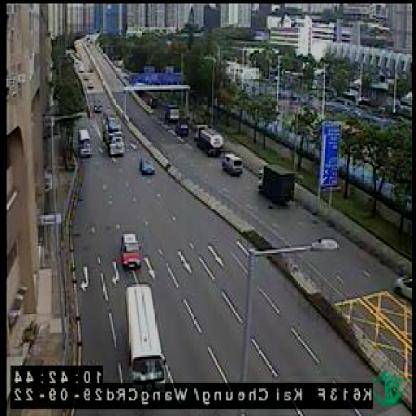Bus: (126, 279, 173, 404)
Car: (120, 229, 143, 270), (78, 125, 96, 159), (224, 147, 244, 177), (142, 156, 156, 175), (94, 92, 104, 113), (176, 118, 188, 135)
Truck: (258, 159, 296, 210), (101, 109, 125, 161), (195, 120, 225, 156)
